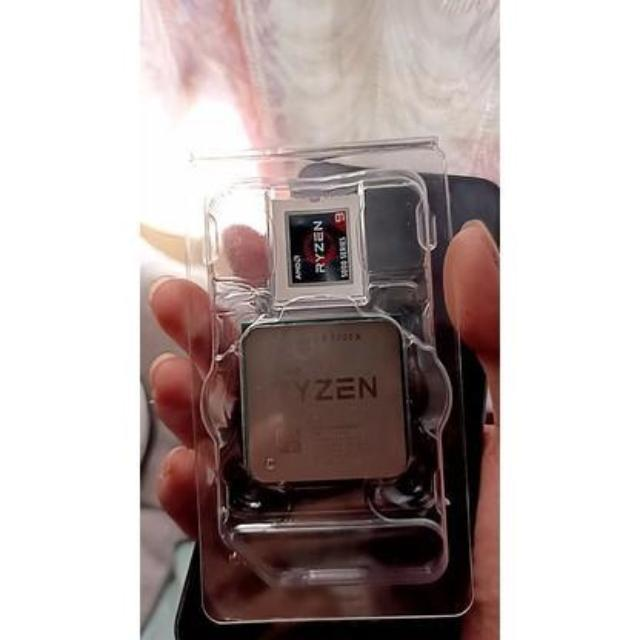CPU: (238, 324, 418, 487)
